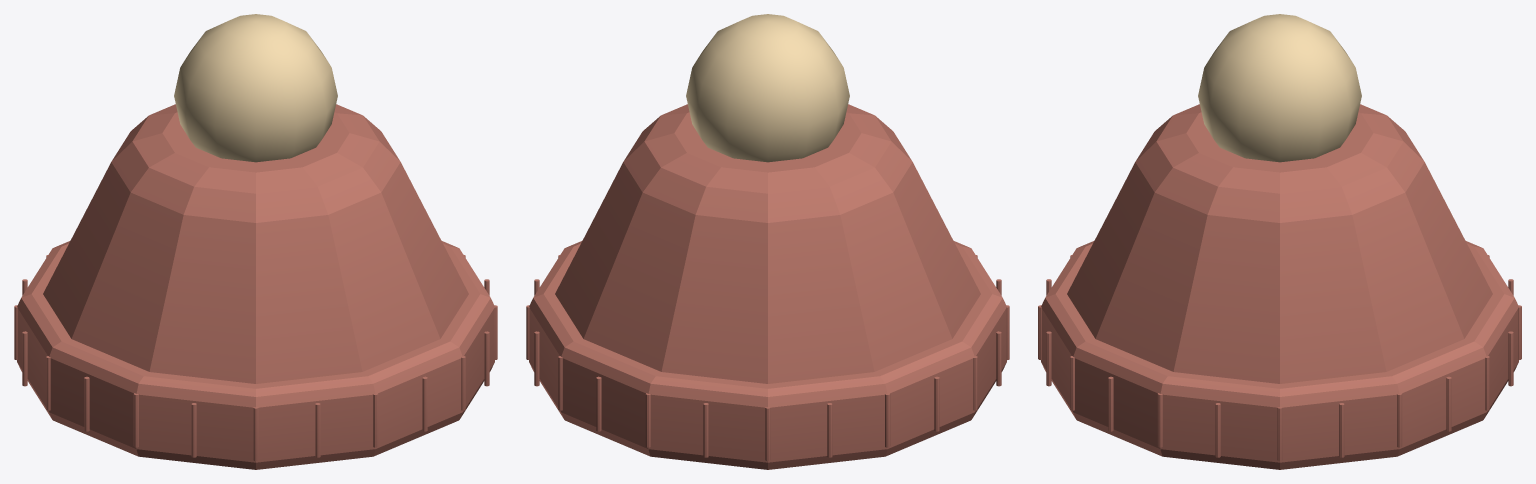
Rendered from hat_beanie.glb.
3 views of the same model, side by side, from view 1: azimuth 30°, elevation 25°; view 2: azimuth 150°, elevation 25°; view 3: azimuth 270°, elevation 25° (orthographic).
Visible parts, largest first — view 1: knit, cuff, pom; view 2: knit, cuff, pom; view 3: knit, cuff, pom.
Part boxes in pixels (bbox=[...]): knit: bbox=[43, 104, 468, 383]; cuff: bbox=[17, 241, 494, 469]; pom: bbox=[174, 14, 337, 162]; knit: bbox=[555, 104, 980, 383]; cuff: bbox=[529, 241, 1006, 469]; pom: bbox=[686, 14, 849, 162]; knit: bbox=[1067, 104, 1492, 383]; cuff: bbox=[1041, 241, 1518, 469]; pom: bbox=[1198, 14, 1361, 162].
Bounding box in the file's own units: 0.708 × 0.57 × 0.708.
